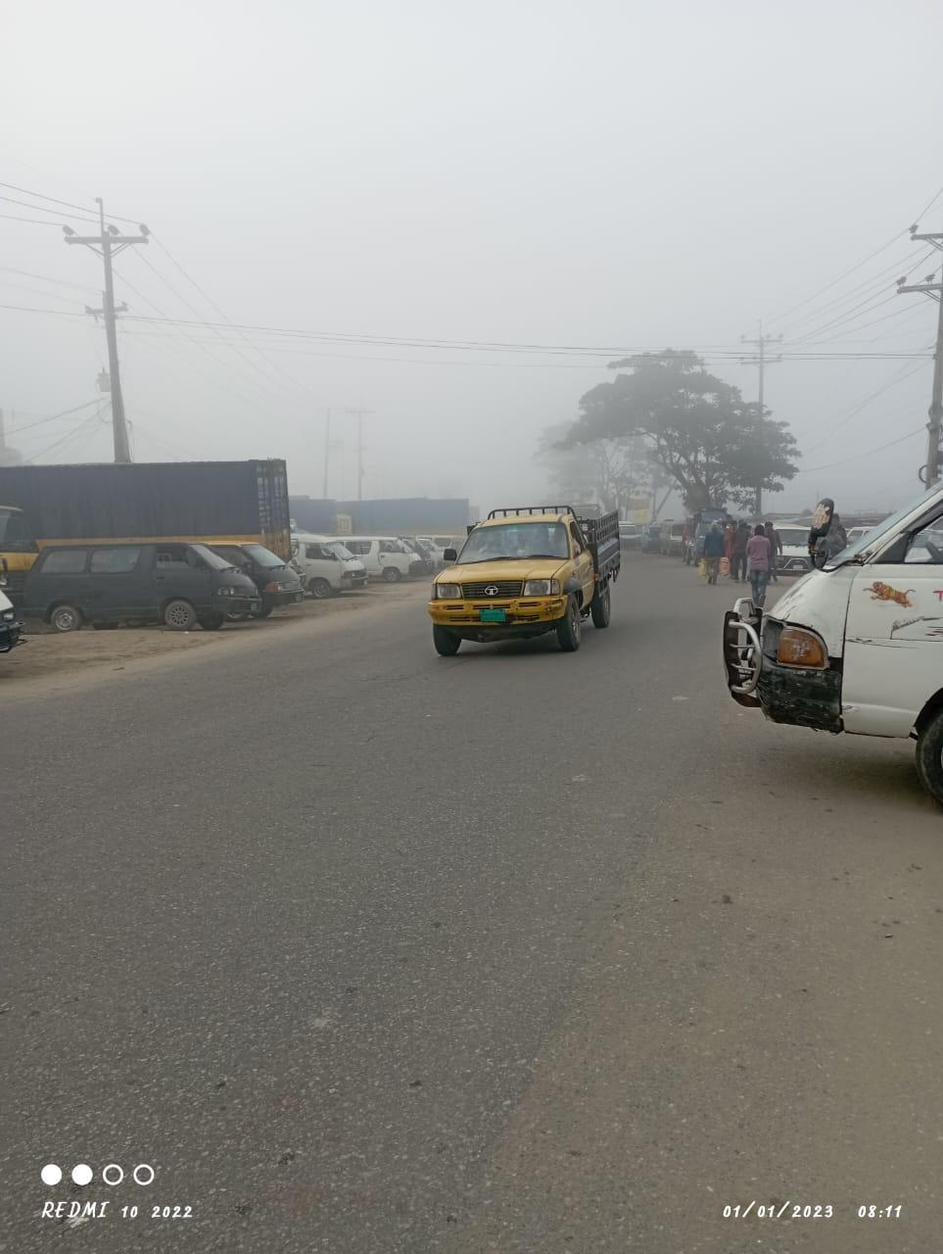Car: (714, 454, 941, 811), (10, 533, 262, 655), (295, 526, 362, 612), (338, 532, 432, 589), (765, 510, 828, 585)
Truck: (4, 456, 294, 583), (423, 501, 625, 667)
